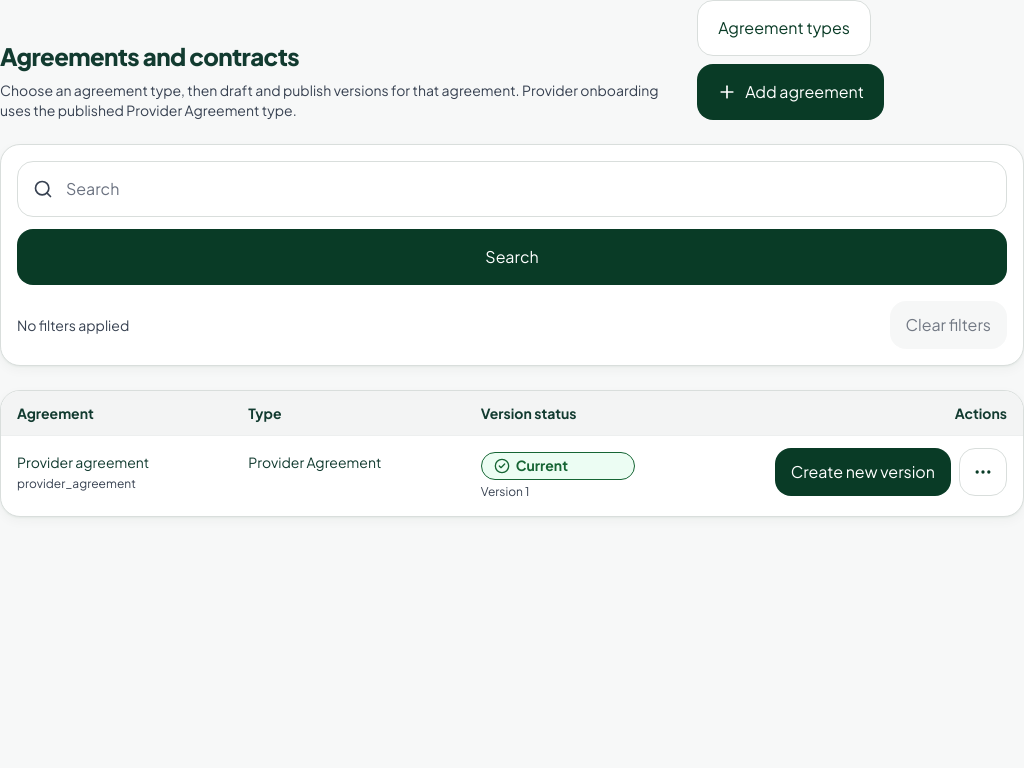
Test: File Maintenance document catalog › keeps published agreement text and effective date read-only
The image size is (1024, 768).
Click the button with aria-label "View Provider agreement" at (83, 462), box [17,452,149,472]
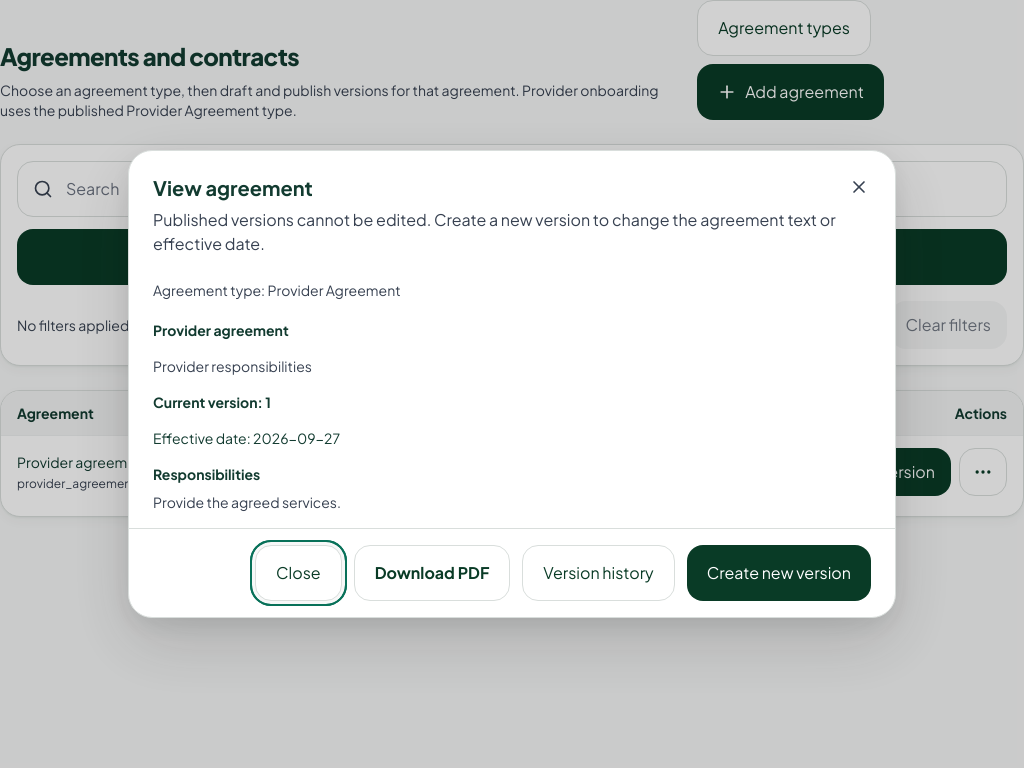
Check: the text "Current version: 1" is shown, box [153,393,271,411]
Check: the text "Published versions cannot be edited" is shown once, box [153,208,871,256]
Check: the button "Create new version" is shown, box [687,545,871,601]
